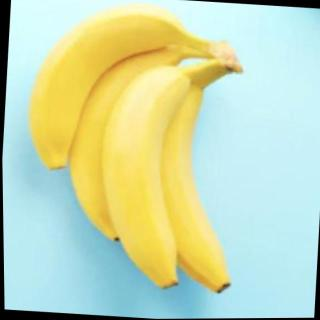banana: (21, 0, 185, 180), (60, 32, 190, 249), (133, 79, 246, 296), (91, 61, 192, 291)
